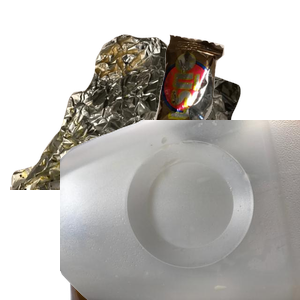glass: (67, 120, 282, 300)
metal: (10, 32, 250, 212)
plastic: (60, 120, 300, 300)
trash: (150, 32, 300, 172)
